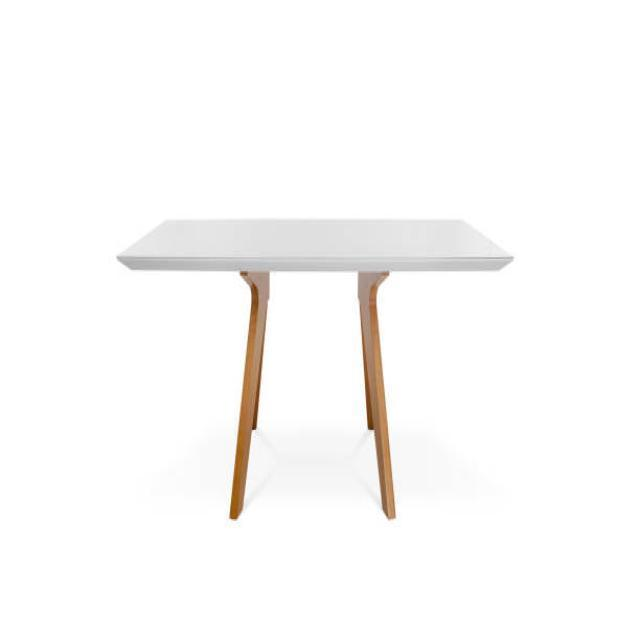table: (114, 216, 514, 521)
